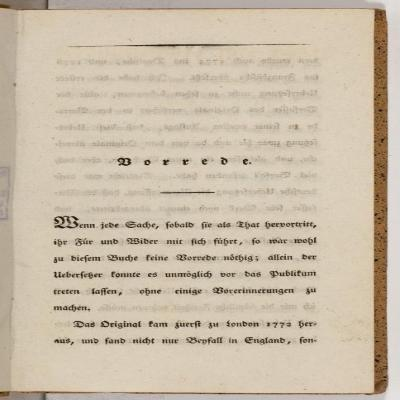rare_books: (0, 7, 389, 393)
